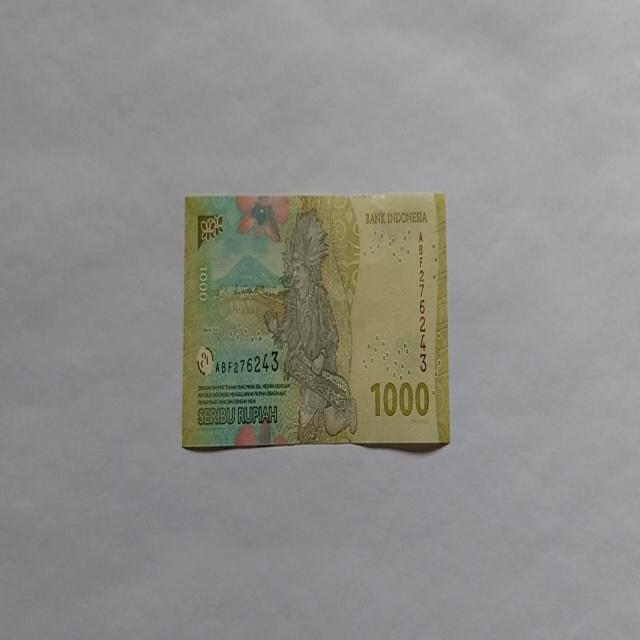seribu rupiah kertas: (181, 190, 450, 450)
